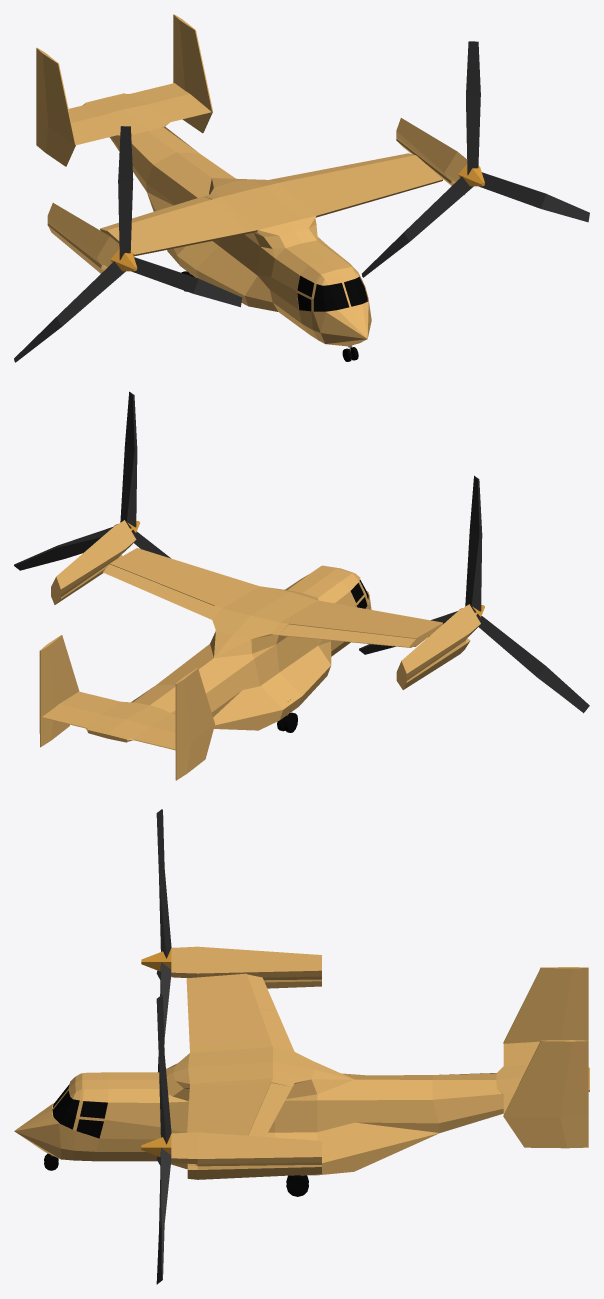
The picture shows the model from 3 angles, top to bottom: view 1: azimuth 30°, elevation 25°; view 2: azimuth 150°, elevation 25°; view 3: azimuth 270°, elevation 25°; orthographic projection. The views are drawn at different scales.
Visible parts, largest first — view 1: Circle.020, L_propeller.004, R_propeller.004, R.004, L.004, L_Elevator.004, R_Rudder.004, L_Rudder.004; view 2: Circle.020, R_propeller.004, L_propeller.004, R.004, L.004, R_Flap2.004, L_Elevator.004, L_Flap2.004, R_Flap1.004, L_Flap1.004, R_elevator.004, L_Rudder.004 (+1 smaller); view 3: Circle.020, L.004, R.004, L_propeller.004, R_propeller.004, R_Rudder.004, L_Rudder.004, R_Flap2.004, L_Flap2.004.
Boxes of the visible parts, bbox=[...] form: Circle.020: bbox=[36, 19, 443, 346]; L_propeller.004: bbox=[362, 41, 589, 277]; R_propeller.004: bbox=[14, 126, 241, 362]; R.004: bbox=[47, 203, 119, 273]; L.004: bbox=[396, 118, 467, 195]; L_Elevator.004: bbox=[131, 83, 189, 103]; R_Rudder.004: bbox=[36, 47, 46, 104]; L_Rudder.004: bbox=[173, 14, 183, 71]; Circle.020: bbox=[39, 548, 443, 780]; R_propeller.004: bbox=[359, 475, 589, 713]; L_propeller.004: bbox=[14, 391, 170, 570]; R.004: bbox=[396, 604, 480, 689]; L.004: bbox=[51, 520, 136, 604]; R_Flap2.004: bbox=[280, 624, 352, 641]; L_Elevator.004: bbox=[42, 704, 100, 728]; L_Flap2.004: bbox=[154, 585, 213, 616]; R_Flap1.004: bbox=[345, 631, 416, 647]; L_Flap1.004: bbox=[103, 564, 161, 594]; R_elevator.004: bbox=[133, 726, 175, 750]; L_Rudder.004: bbox=[39, 645, 52, 699]; Circle.020: bbox=[14, 967, 589, 1175]; L.004: bbox=[171, 1132, 321, 1179]; R.004: bbox=[171, 946, 321, 988]; L_propeller.004: bbox=[141, 995, 171, 1284]; R_propeller.004: bbox=[141, 809, 171, 1072]; R_Rudder.004: bbox=[564, 967, 588, 1021]; L_Rudder.004: bbox=[564, 1040, 588, 1094]; R_Flap2.004: bbox=[259, 1008, 292, 1046]; L_Flap2.004: bbox=[259, 1083, 292, 1114].
Bounding box in the file's own units: 2646 × 1053 × 2085.
